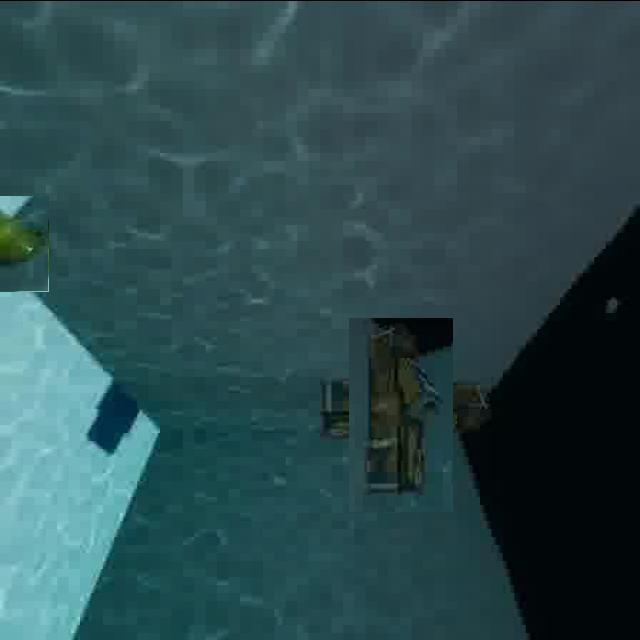Control Panel: (326, 339, 476, 489)
Pipe: (0, 195, 49, 291)
